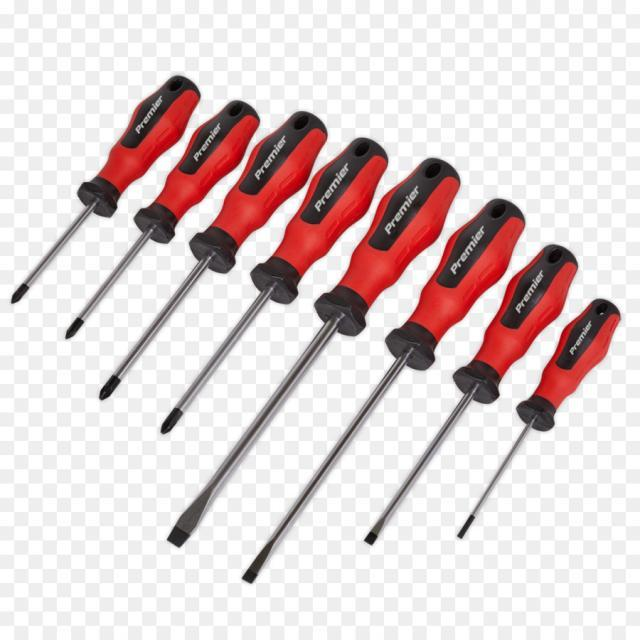screwdriver: (162, 156, 462, 552), (239, 194, 530, 590), (156, 133, 392, 442), (96, 104, 330, 405), (362, 240, 580, 550), (59, 96, 265, 344), (8, 68, 202, 306), (454, 296, 622, 547)
